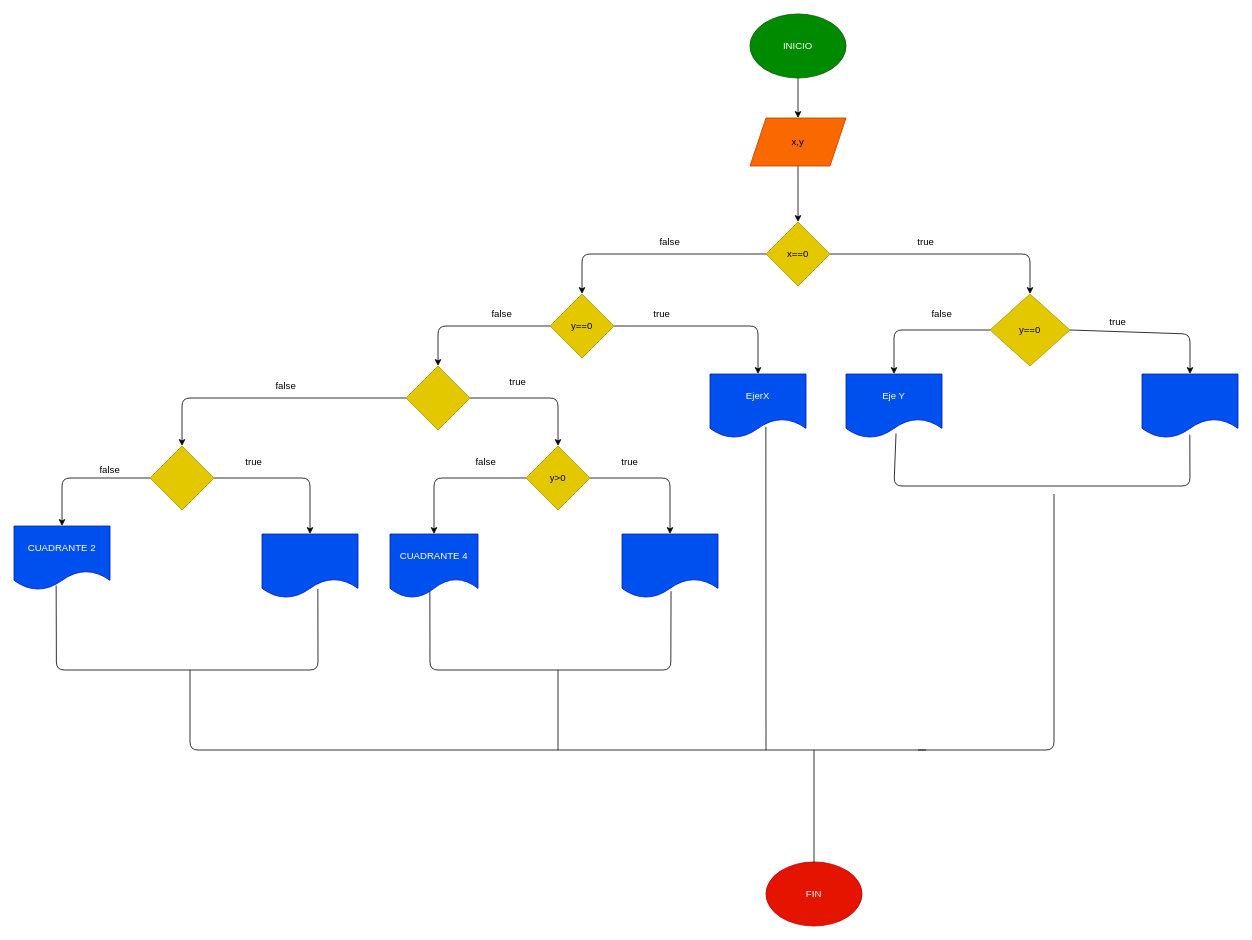
The diagram is 1252 pixels wide and 940 high, and some of its shapes have lost their labels. Here are the shapes that lost their labels. From the top down, the box of each, then its label:
(405, 365, 470, 430): x>0
(1141, 373, 1238, 438): origen
(149, 445, 214, 510): y<0
(261, 533, 358, 598): CUADRANTE 3
(621, 533, 718, 598): CUADRANTE 1
